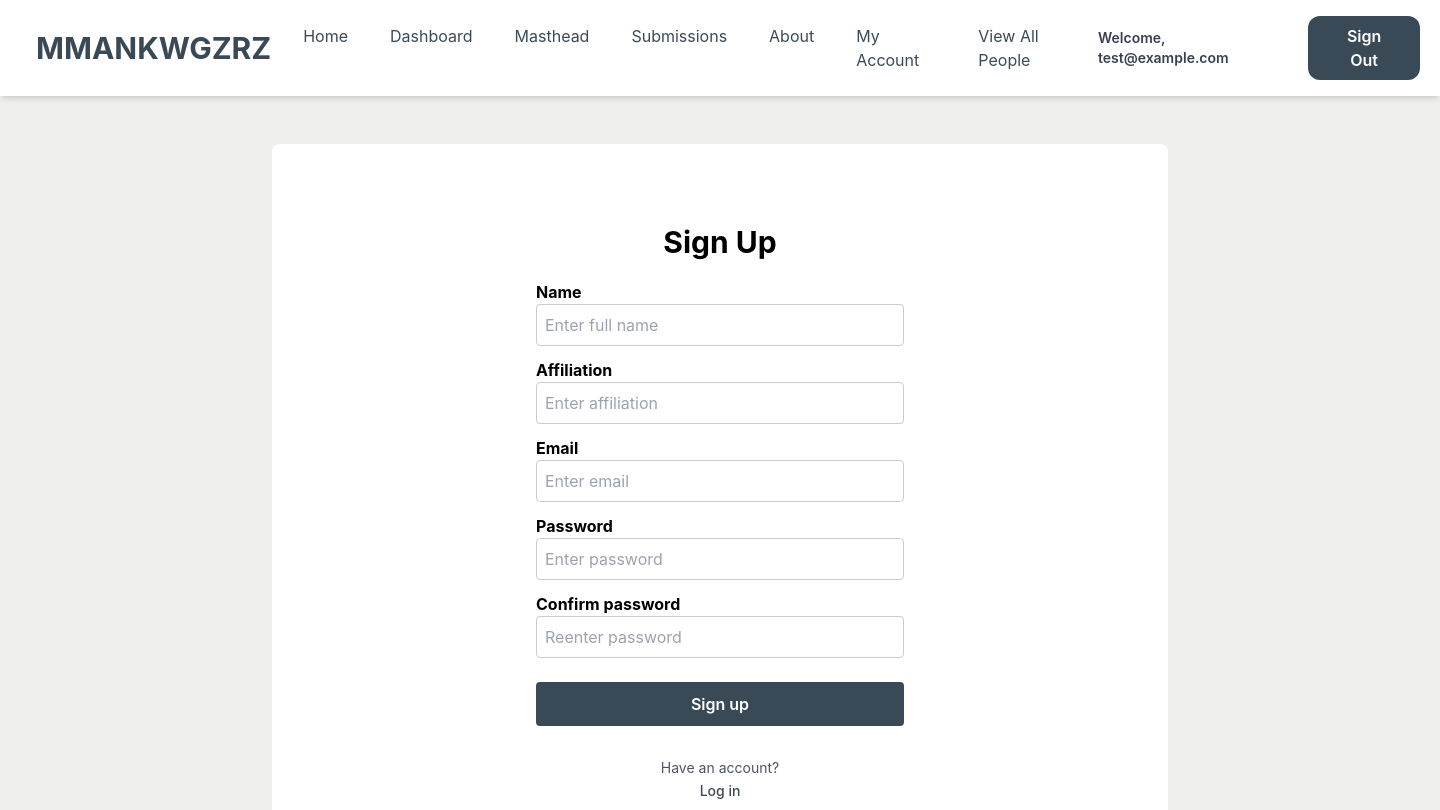
Scenario: App (authenticated view) › switches to Masthead view
Click the link "Masthead": (552, 36) [515, 26, 589, 46]
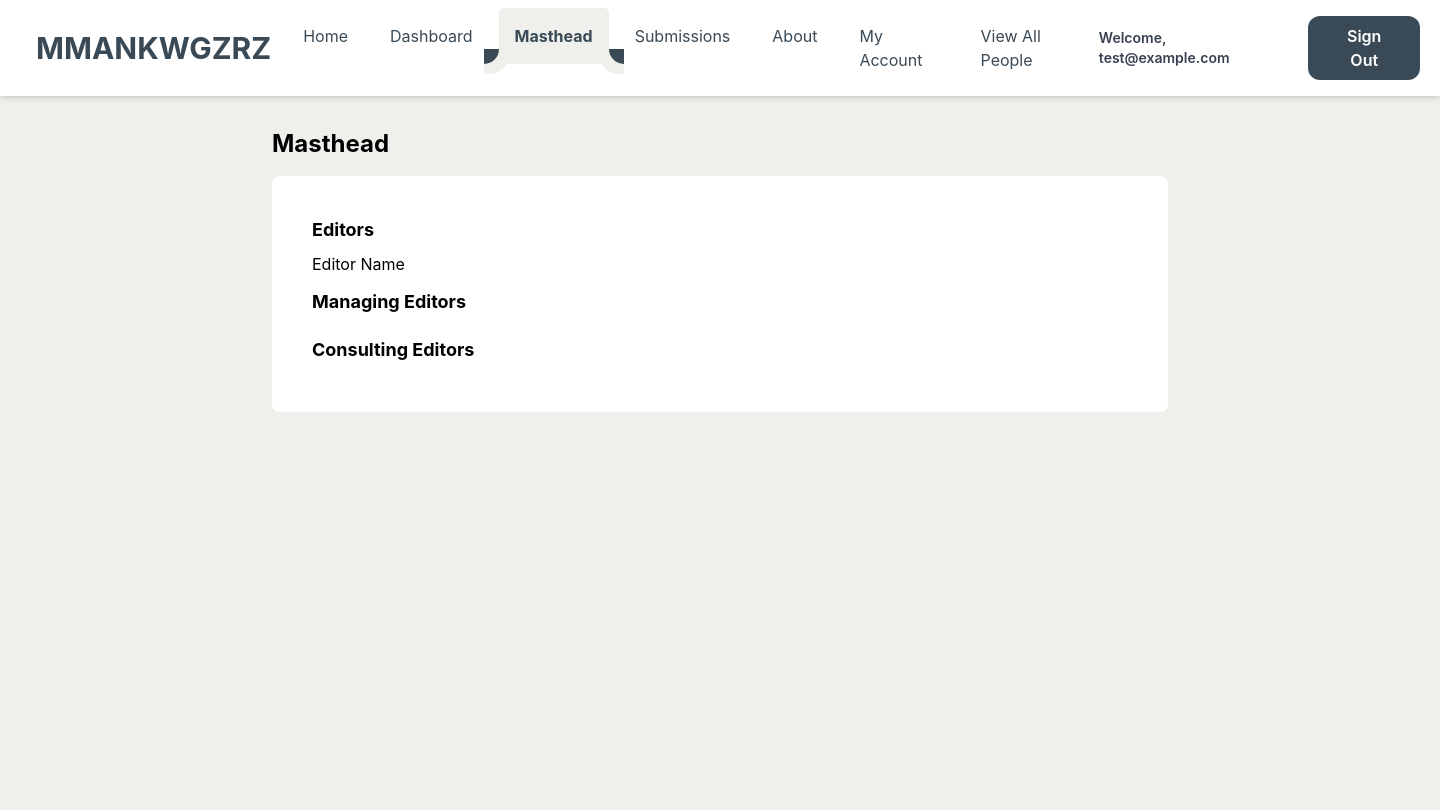
Expected: the heading "Editors" is shown, [312, 219, 374, 240]
Expected: the heading "Managing Editors" is shown, [312, 291, 466, 312]
Expected: the heading "Consulting Editors" is shown, [312, 339, 474, 360]
